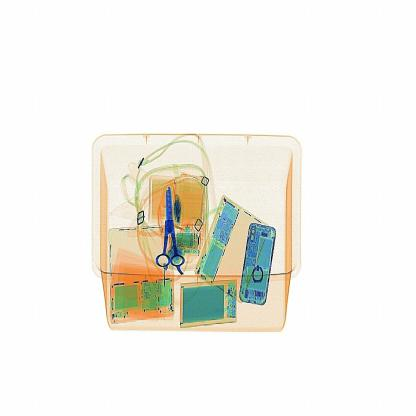gun: (149, 169, 192, 284)
